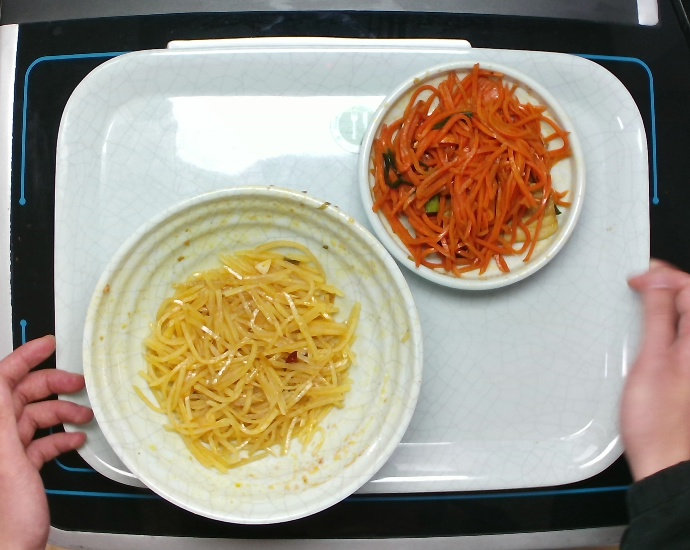JYsf-Da_Tang_Wan: (79, 181, 423, 532)
JYsf-Xiao_Yuan_Pan: (359, 61, 590, 296)
